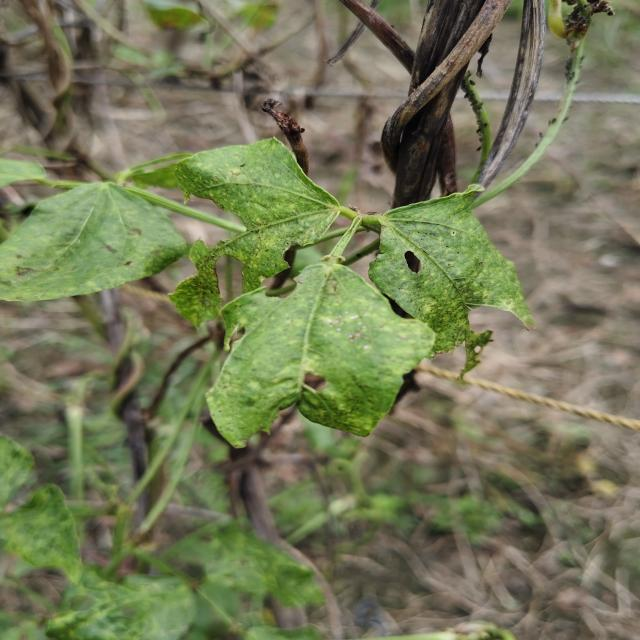leaf-moderate: (170, 138, 341, 429), (207, 256, 441, 447), (369, 185, 534, 379), (438, 119, 456, 195), (476, 35, 492, 78)
sitaw-aphid-high: (0, 182, 188, 347)
